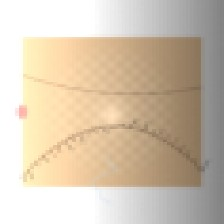foreign_body_visible: (93, 105, 135, 139)
